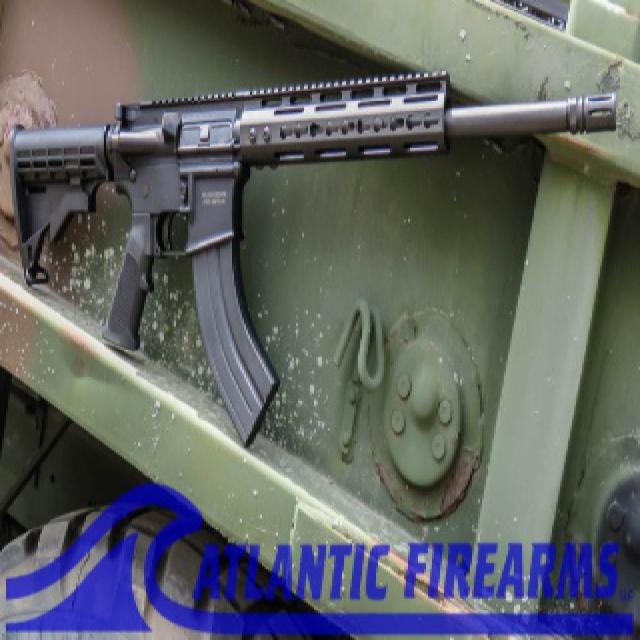long weapon: (6, 68, 620, 444)
